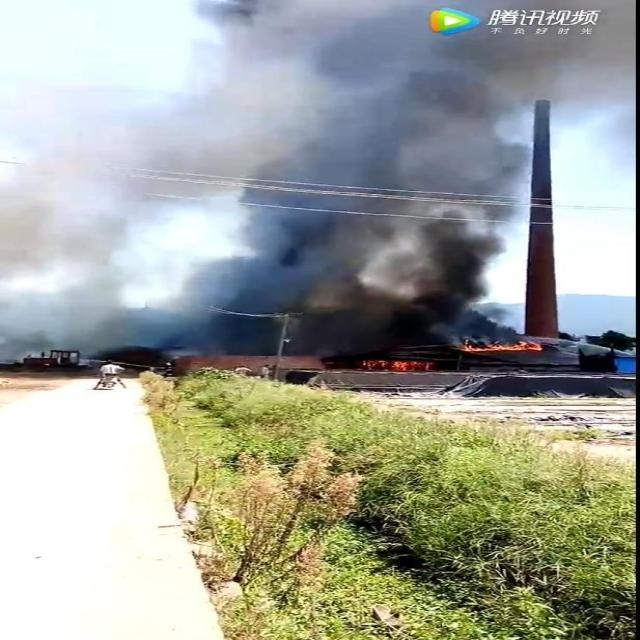Fire: (462, 338, 546, 352), (354, 359, 434, 373)
Smoke: (1, 1, 634, 364)
